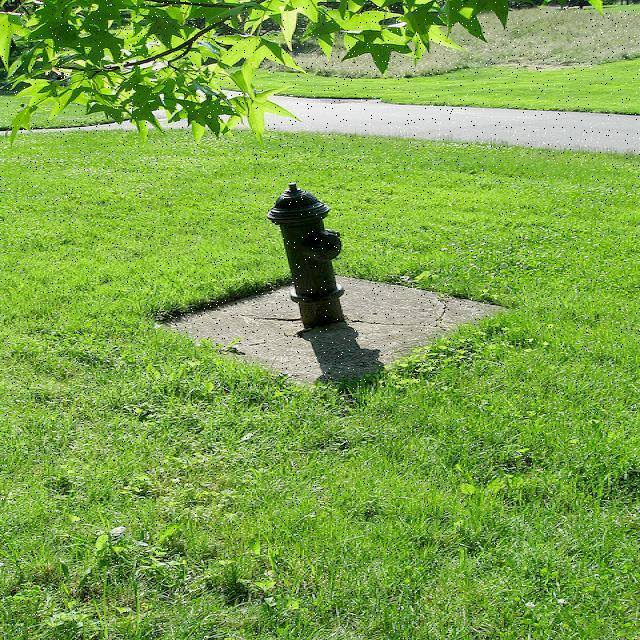fire_hydrant: (265, 183, 347, 329)
